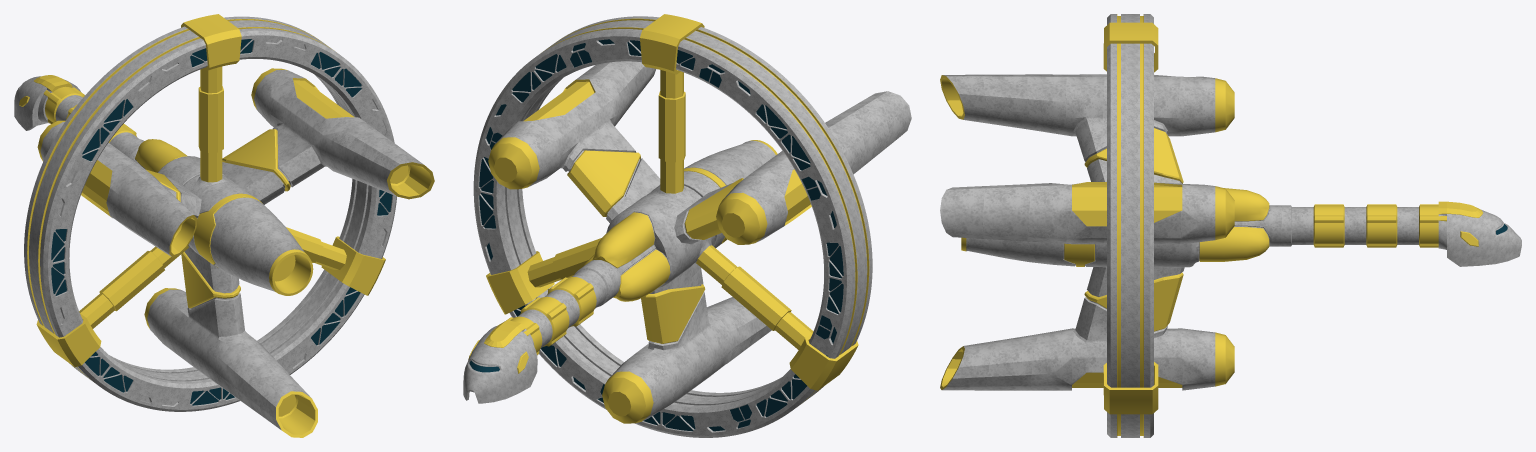
The model's file is Main_spaceship_2.fbx.
3 views of the same model, side by side, from view 1: azimuth 30°, elevation 25°; view 2: azimuth 150°, elevation 25°; view 3: azimuth 270°, elevation 25° (orthographic). The views are drawn at different scales.
Parts seen in each view (by area): view 1: ME_Main_bridge_Quaters_3, ME_Main_ship_side_engine.001, ME_Main_ship_side_engine.002, ME_Main_ship_main_engine, ME_Rotator_handler2, ME_Main_ship_side_engine, ME_Main_bridge_2; view 2: ME_Main_bridge_Quaters_3, ME_Main_ship_side_engine.001, ME_Rotator_handler2, ME_Main_ship_main_engine, ME_Main_ship_side_engine.002, ME_Main_ship_side_engine, ME_Main_bridge_2; view 3: ME_Main_bridge_Quaters_3, ME_Main_ship_side_engine.002, ME_Main_ship_side_engine, ME_Main_ship_main_engine, ME_Main_ship_side_engine.001, ME_Main_bridge_2, ME_Rotator_handler2.
Part boxes in pixels (x1=…): ME_Main_bridge_Quaters_3: x1=24, y1=16, x2=396, y2=411; ME_Main_ship_side_engine.001: x1=222, y1=68, x2=434, y2=204; ME_Main_ship_side_engine.002: x1=144, y1=247, x2=317, y2=437; ME_Main_ship_main_engine: x1=43, y1=86, x2=313, y2=295; ME_Rotator_handler2: x1=36, y1=14, x2=385, y2=366; ME_Main_ship_side_engine: x1=37, y1=120, x2=201, y2=257; ME_Main_bridge_2: x1=14, y1=75, x2=80, y2=130; ME_Main_bridge_Quaters_3: x1=473, y1=16, x2=872, y2=437; ME_Main_ship_side_engine.001: x1=488, y1=61, x2=660, y2=222; ME_Rotator_handler2: x1=486, y1=14, x2=858, y2=390; ME_Main_ship_main_engine: x1=507, y1=140, x2=777, y2=355; ME_Main_ship_side_engine.002: x1=602, y1=263, x2=771, y2=423; ME_Main_ship_side_engine: x1=674, y1=91, x2=911, y2=244; ME_Main_bridge_2: x1=463, y1=320, x2=537, y2=403; ME_Main_bridge_Quaters_3: x1=1107, y1=14, x2=1153, y2=437; ME_Main_ship_side_engine.002: x1=940, y1=267, x2=1234, y2=390; ME_Main_ship_side_engine: x1=940, y1=74, x2=1234, y2=183; ME_Main_ship_main_engine: x1=961, y1=188, x2=1446, y2=267; ME_Main_ship_side_engine.001: x1=940, y1=182, x2=1234, y2=244; ME_Main_bridge_2: x1=1438, y1=201, x2=1521, y2=266; ME_Rotator_handler2: x1=1103, y1=22, x2=1158, y2=414.
Bounding box in the file's own units: 10800 × 10895 × 14820.
